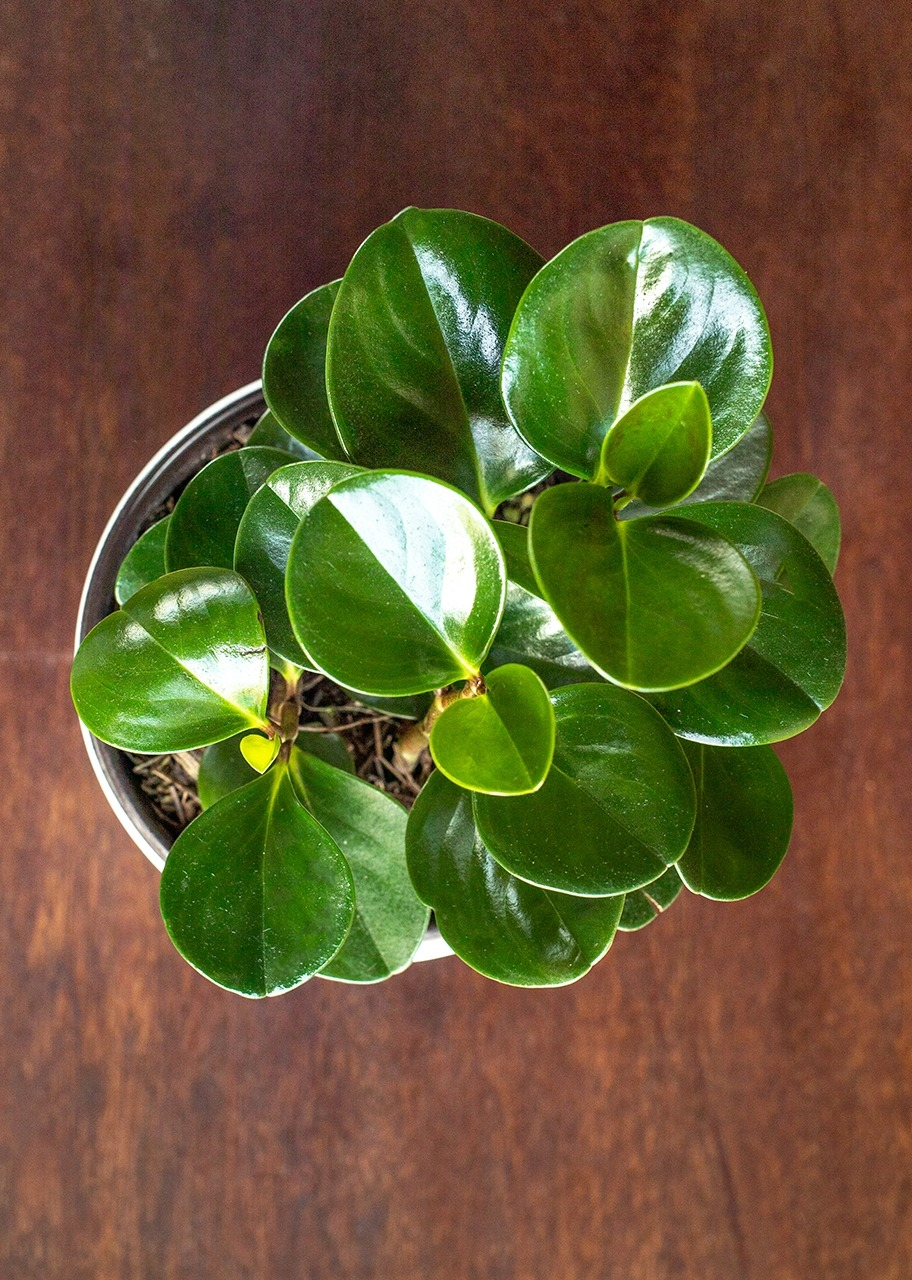plants: (57, 241, 887, 1008)
